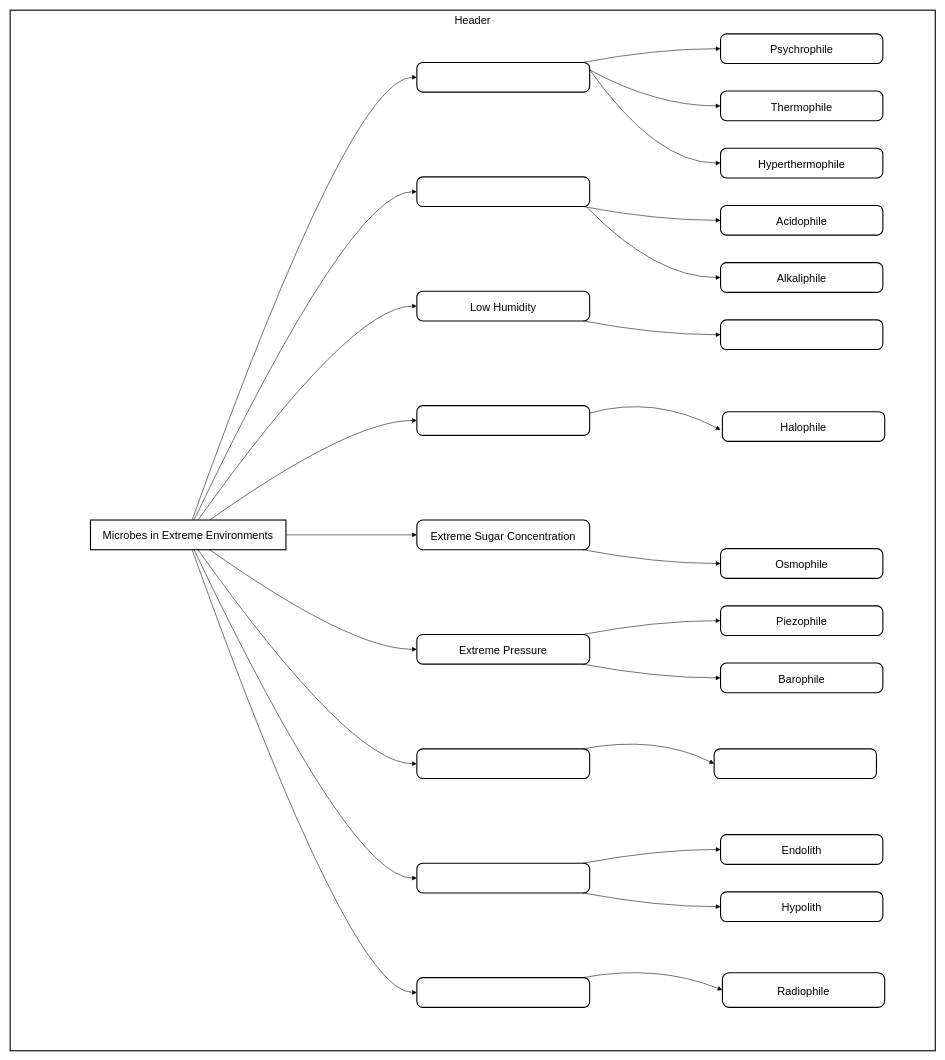
Image size: 945x1060. Some labels were removed from this diagram. The shapes that lost their labels are listed below. From the top down, each one's centre as x and y in pixels, then its label:
the point at 503,77: Extreme Temperature
the point at 503,191: Extreme pH
the point at 801,334: Xerophile
the point at 503,420: Extreme Salinity
the point at 503,763: Heavy Metal
the point at 795,763: Metallotolerant
the point at 503,877: Microbes in Rocks
the point at 503,992: Extreme Radiation
